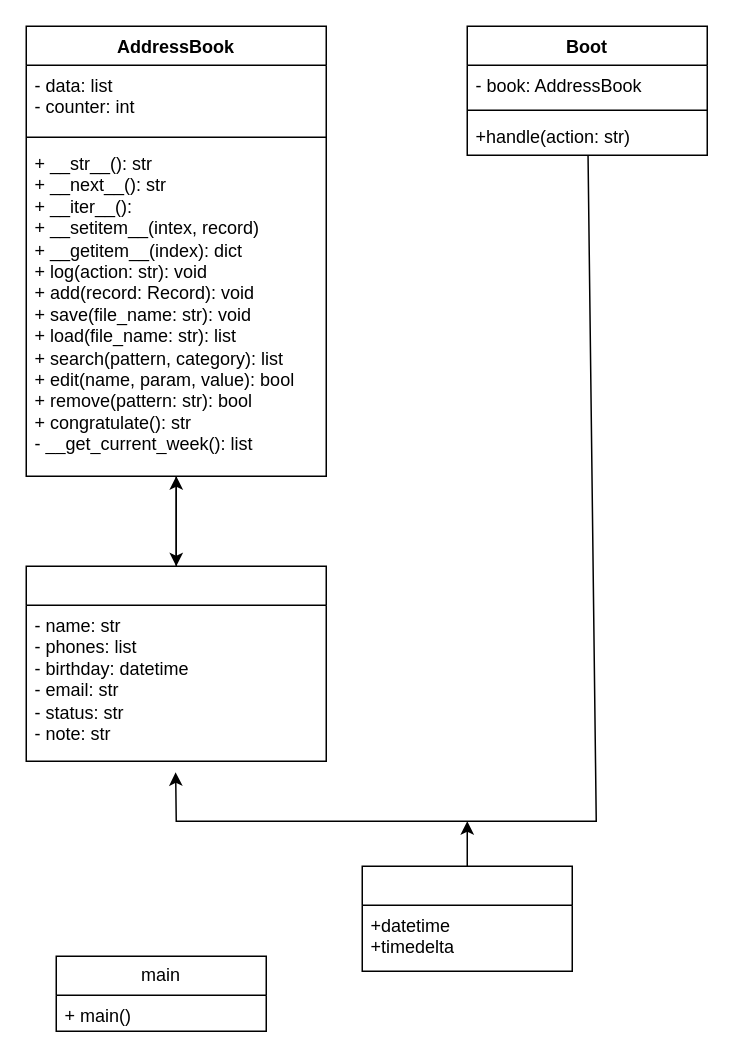
The diagram is 734 pixels wide and 1062 high, and some of its shapes have lost their labels. Each missing label, with the box of its shape:
datetime module: (361, 865, 572, 971)
Record: (25, 565, 326, 761)
